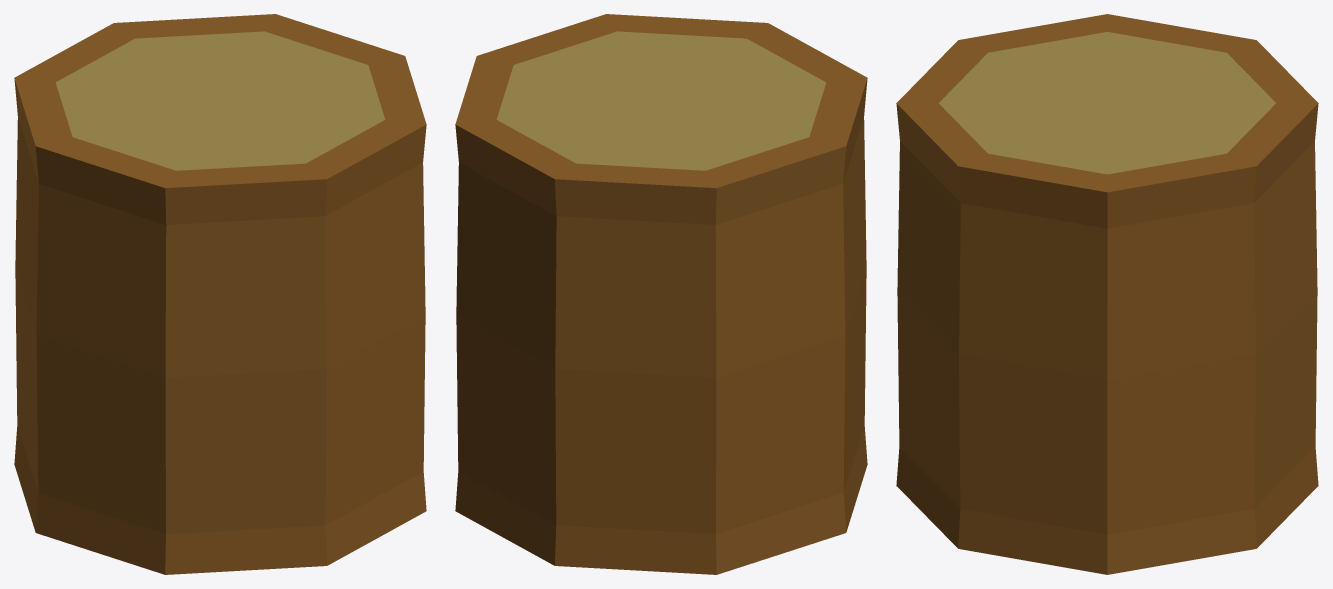
Rendered from stump.fbx.
3 views of the same model, side by side, from view 1: azimuth 30°, elevation 25°; view 2: azimuth 150°, elevation 25°; view 3: azimuth 270°, elevation 25° (orthographic).
Parts seen in each view (by area): view 1: Cylinder; view 2: Cylinder; view 3: Cylinder.
Boxes of the visible parts, x1=… form: Cylinder: x1=14, y1=14, x2=426, y2=574; Cylinder: x1=455, y1=14, x2=867, y2=574; Cylinder: x1=896, y1=14, x2=1318, y2=574.
Bounding box in the file's own units: 200 × 200 × 200.
